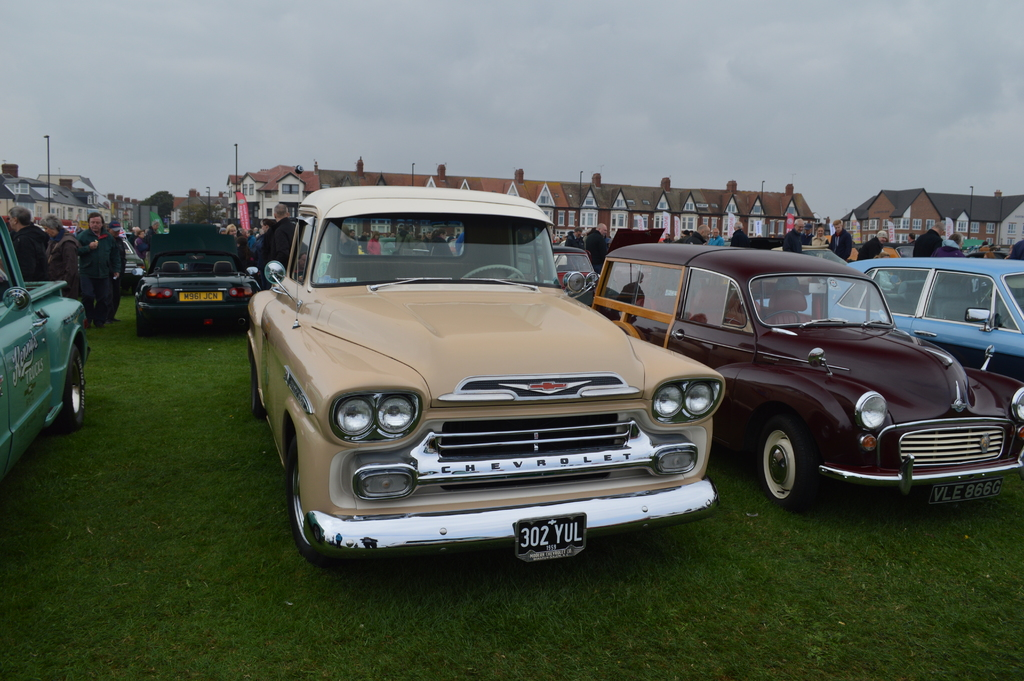Car: (239, 192, 737, 576), (511, 241, 1023, 510), (0, 222, 91, 483), (133, 250, 261, 336), (115, 241, 145, 285)
